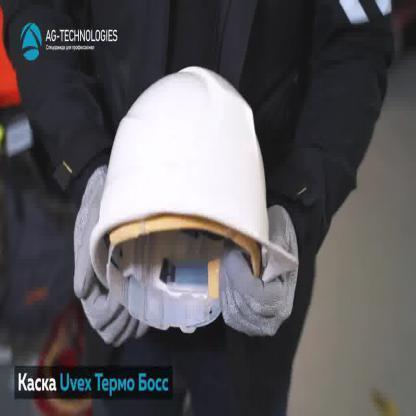gloves: (72, 162, 151, 348), (218, 203, 300, 340)
helmet: (88, 64, 299, 340)
